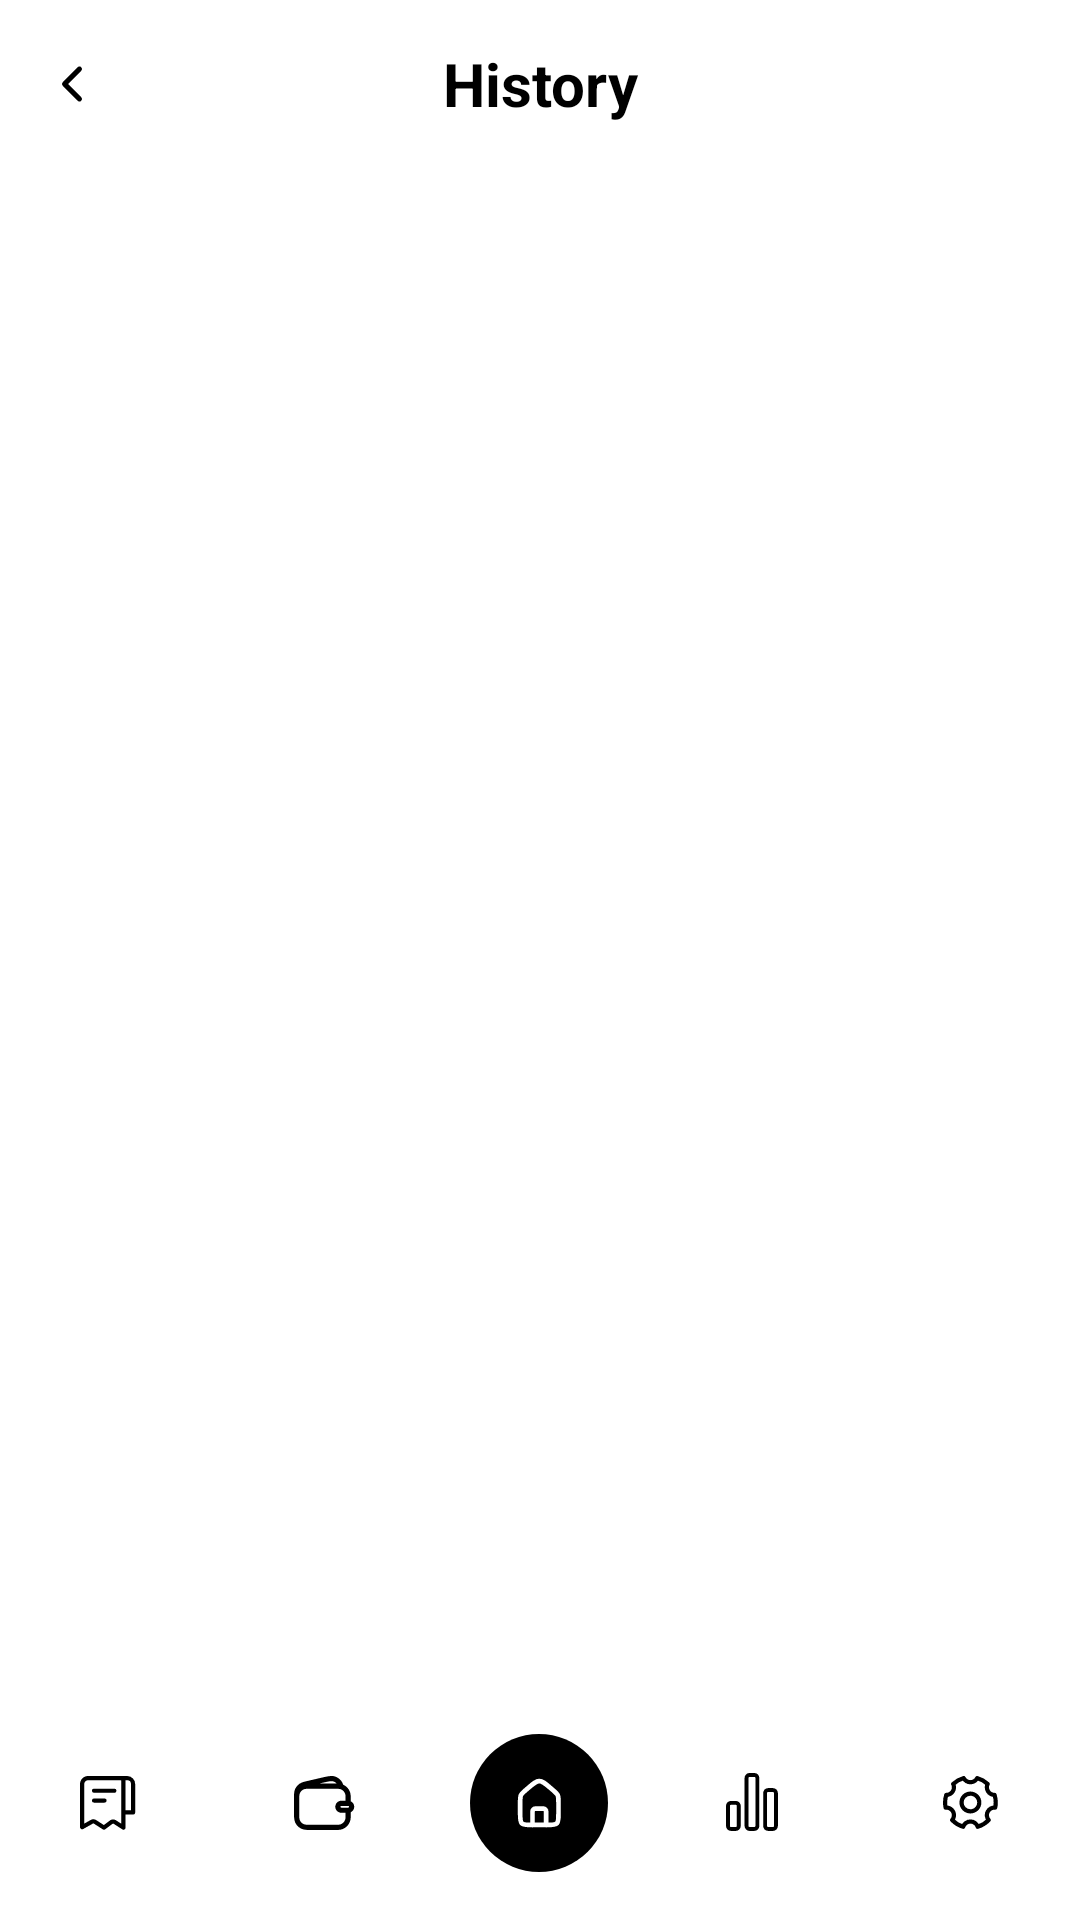

Icons on this 1080×1920 Android screen, each with the point to tap as [x,y]:
back: [72,84]
bill: [108,1803]
dash: [539,1803]
setting: [970,1802]
stats: [752,1802]
wallet: [324,1803]
